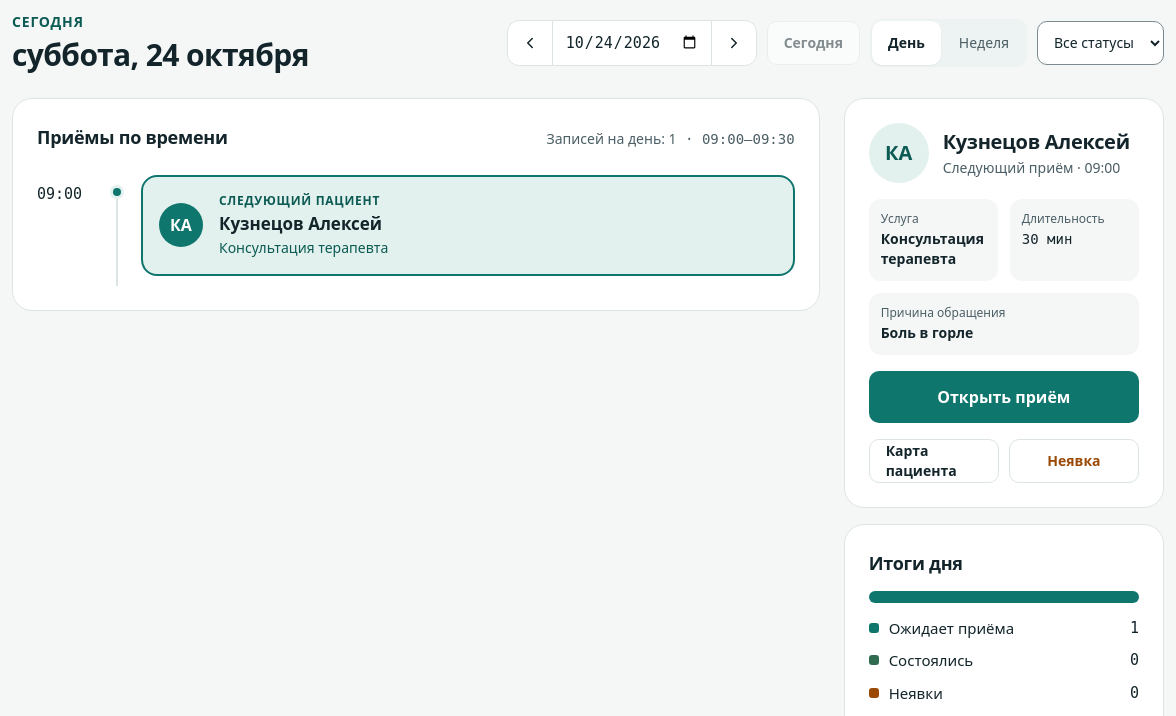
Test case: DoctorJournal › should tell that nothing matches when the chosen status has no rows
Select "Отменена" in the dropdown named "Статус". click: point(1100, 43)
box: [1037,21,1164,65]
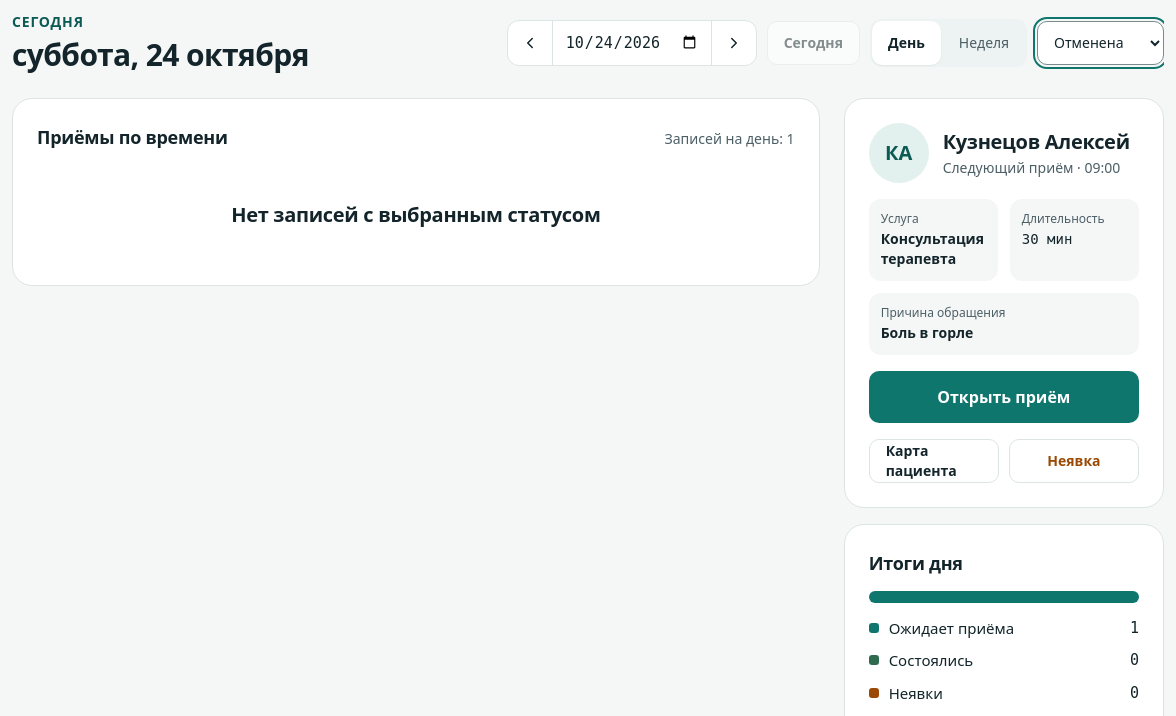
Expected: the heading "Нет записей с выбранным статусом" is shown, [231,200,600,228]
